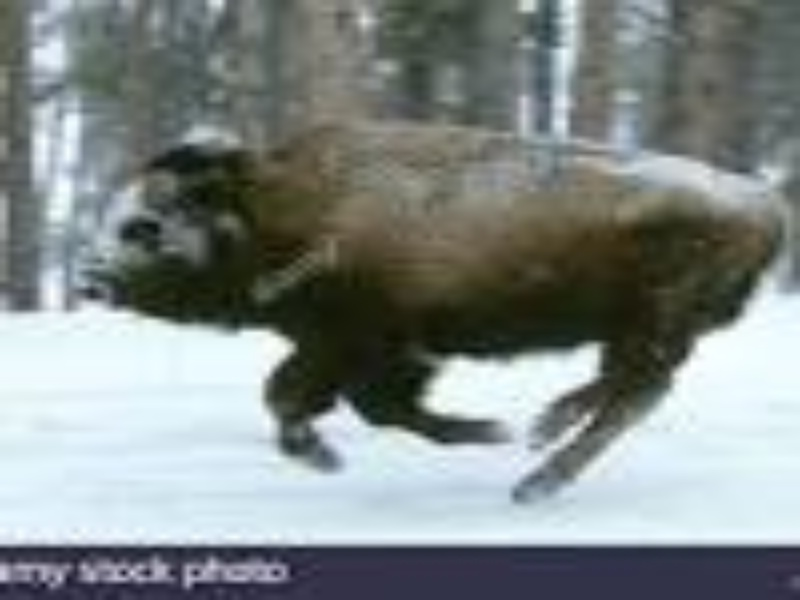buffalo: (85, 116, 773, 494)
